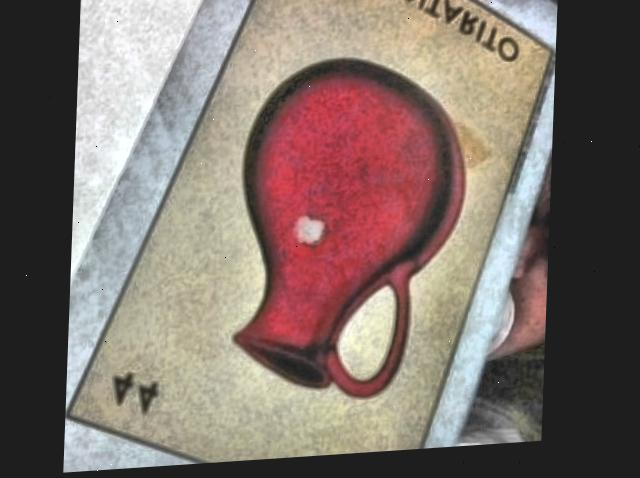El Cantarito: (73, 0, 552, 466)
